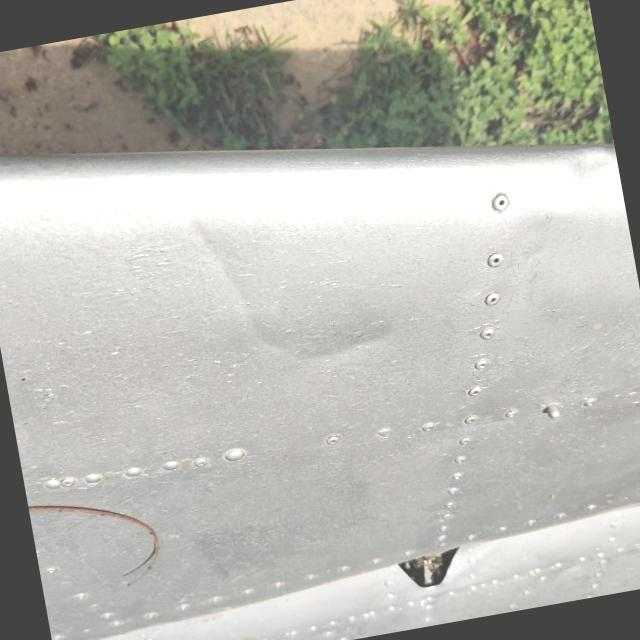dent: (145, 182, 321, 384), (266, 268, 442, 425), (546, 124, 624, 216)
